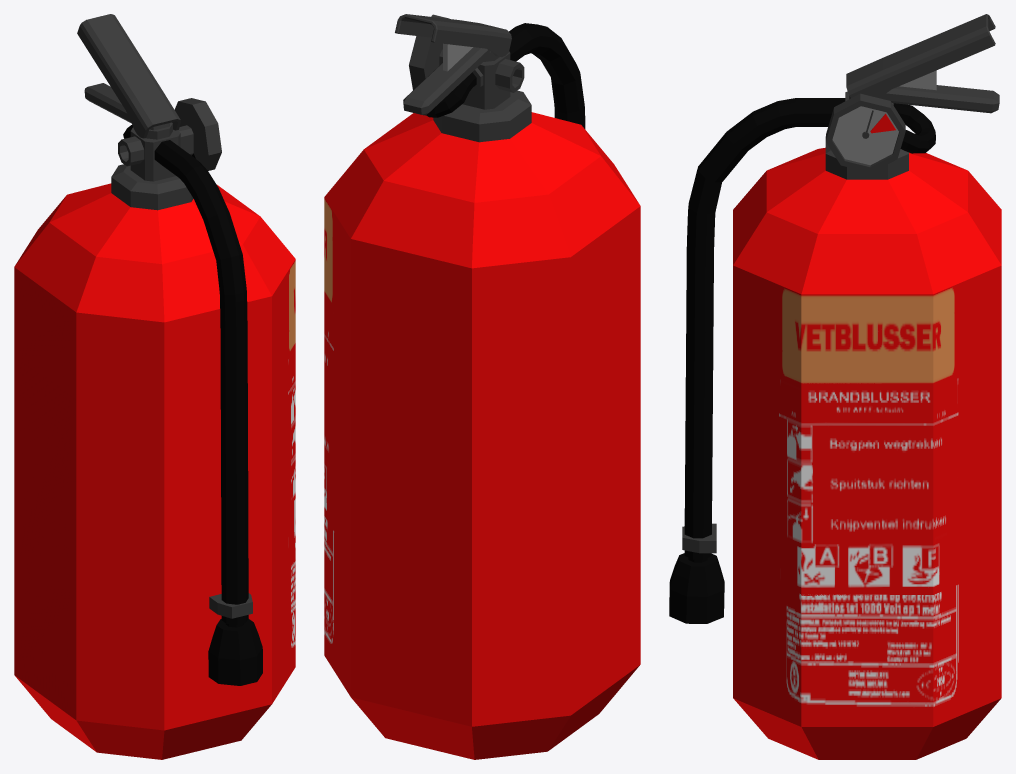
The model's file is vetblusser.fbx.
The picture shows the model from 3 angles, left to right: view 1: azimuth 30°, elevation 25°; view 2: azimuth 150°, elevation 25°; view 3: azimuth 270°, elevation 25°; orthographic projection. The views are drawn at different scales.
Visible parts, largest first — view 1: Cube.001; view 2: Cube.001; view 3: Cube.001.
Boxes of the visible parts, x1,y1,x2,y2 form: Cube.001: [14, 14, 295, 759]; Cube.001: [324, 14, 640, 759]; Cube.001: [669, 14, 1001, 759].
Size of the model in its own units: 470 by 1388 by 581.
Materials: 5 (1 with a texture image).
